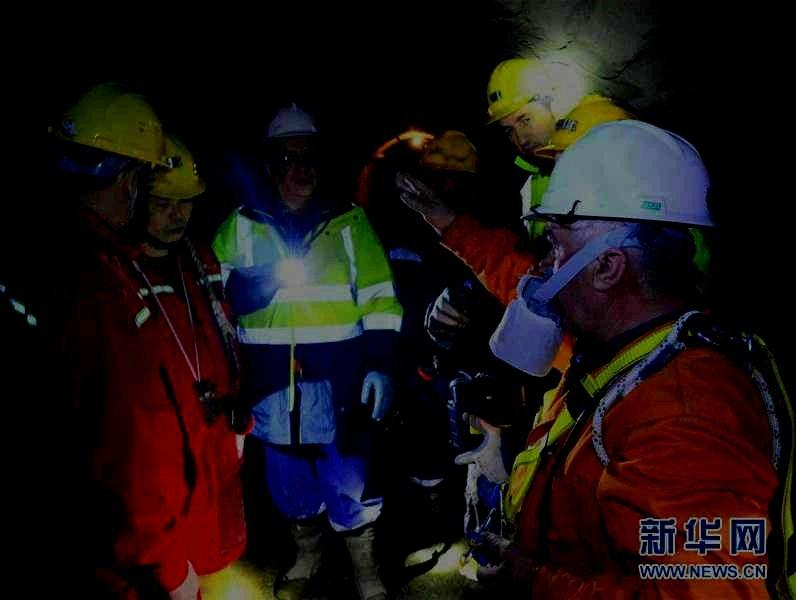helmet: (518, 118, 717, 339), (51, 82, 173, 232), (484, 59, 560, 155), (141, 134, 205, 243), (533, 92, 631, 162), (262, 102, 319, 194), (412, 129, 479, 175)
